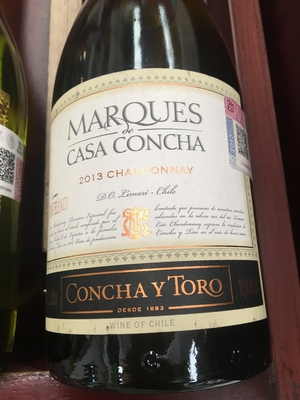marques de casa concha chardonnay: (45, 11, 263, 400)
